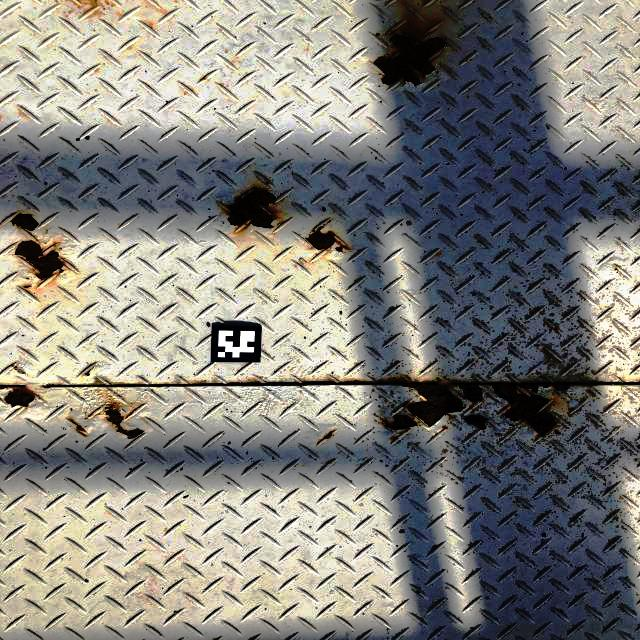Corrosion: (492, 384, 573, 436), (372, 33, 447, 85), (406, 385, 464, 426), (226, 187, 276, 233), (13, 240, 63, 281), (103, 403, 144, 439), (305, 223, 350, 252), (3, 387, 34, 407), (380, 415, 417, 431), (9, 213, 38, 231), (460, 385, 483, 403), (70, 419, 86, 436), (75, 0, 103, 7), (85, 8, 102, 18), (66, 0, 82, 9), (84, 367, 95, 376), (103, 0, 113, 7), (324, 432, 333, 439), (390, 435, 398, 441), (23, 285, 32, 290), (197, 77, 206, 82), (502, 405, 509, 411), (442, 425, 448, 429)
